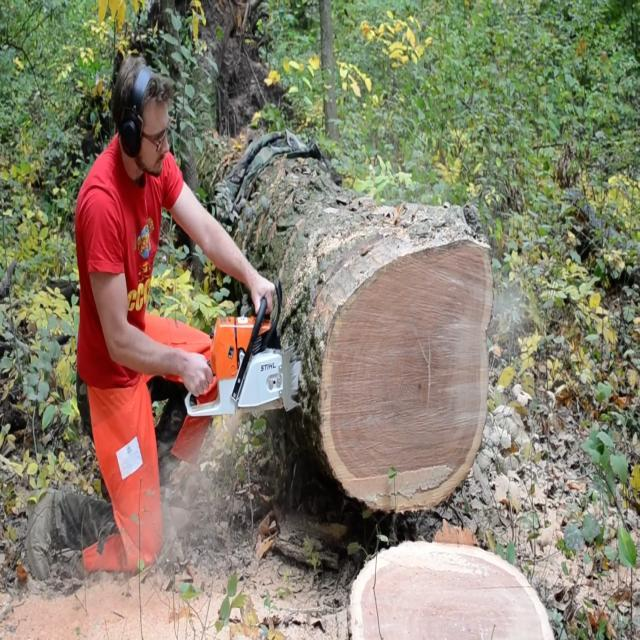Chainsaw: (172, 299, 322, 424)
